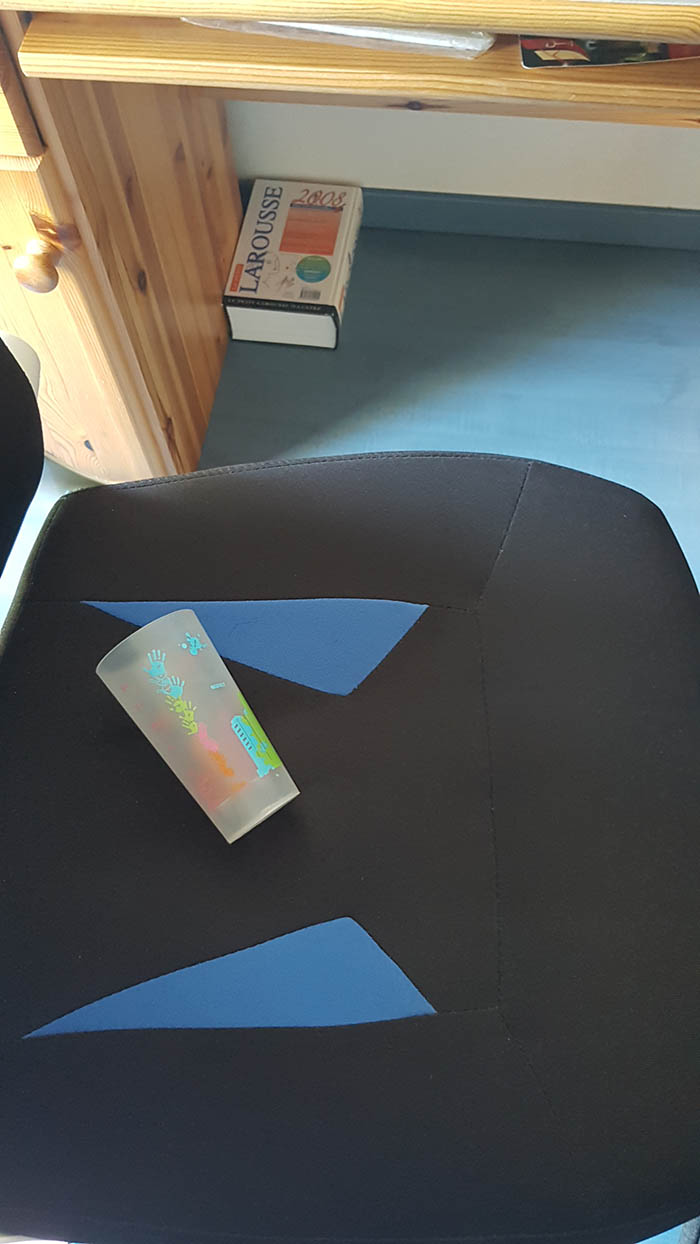ecocup: (93, 607, 298, 842)
